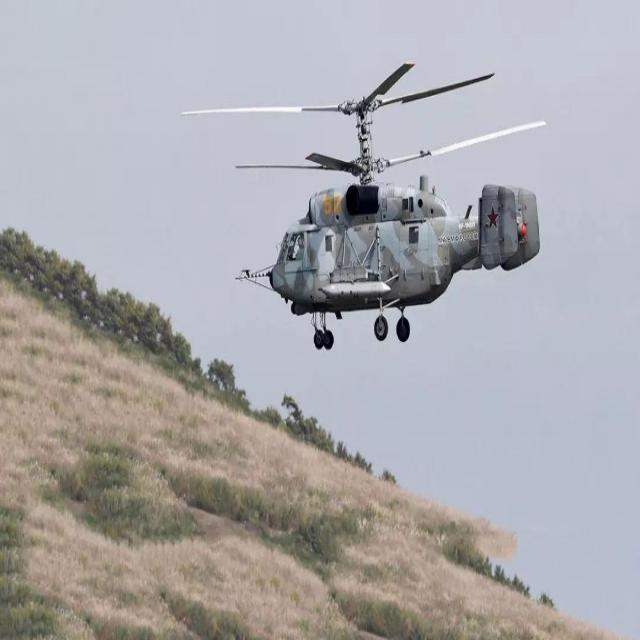MIL_HELO: (167, 50, 569, 367)
